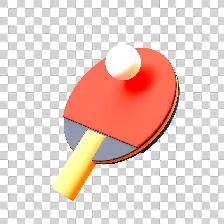WhiteBall: (104, 43, 141, 80)
